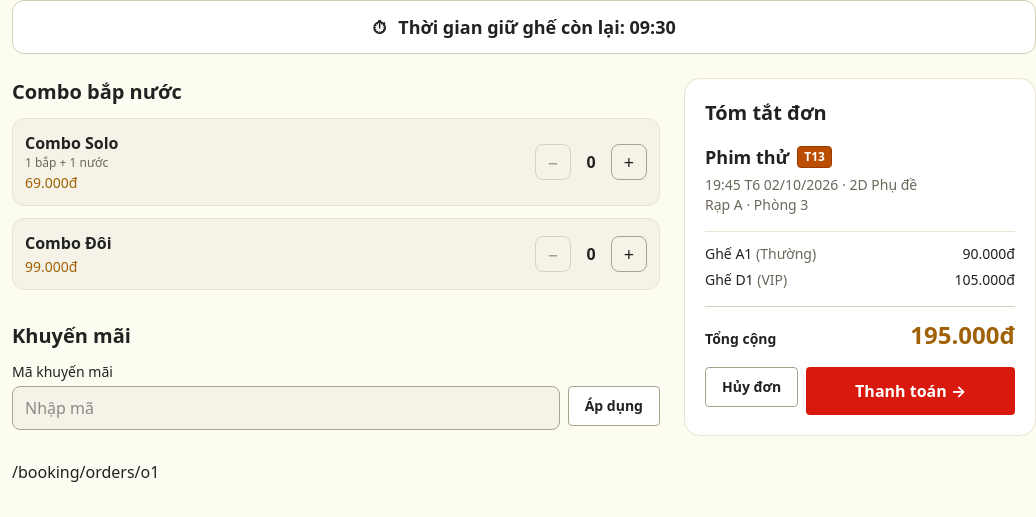
Test: CheckoutPage (P06) › mã bị từ chối với lý do EXPIRED: hiện thông báo tiếng Việt đúng lý do
expect the heading "Phim thử" is shown: met, box [705, 143, 789, 171]
Type "abc" into the field labelled "Mã khuyến mãi" at (286, 408), box [12, 386, 560, 430]
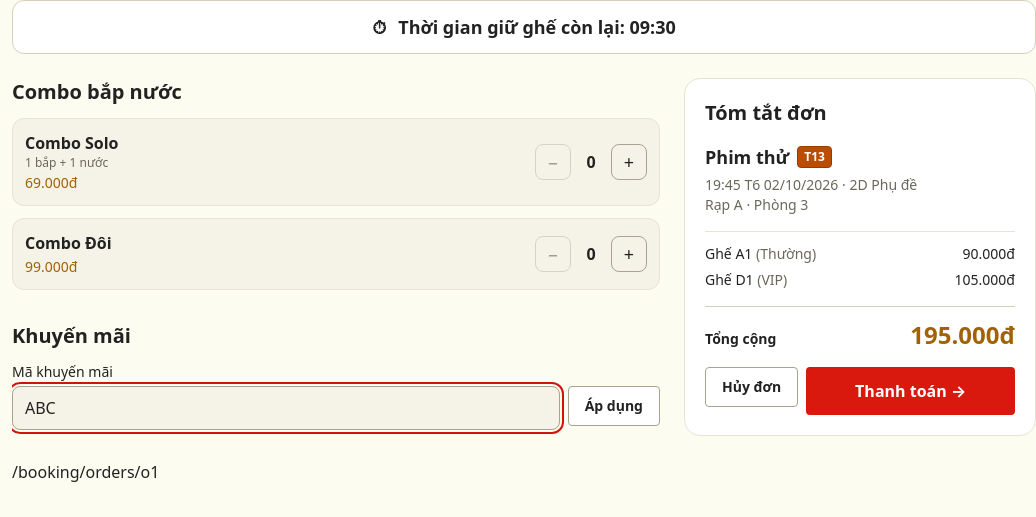
Click the button "Áp dụng" at (614, 406), box [568, 386, 660, 426]
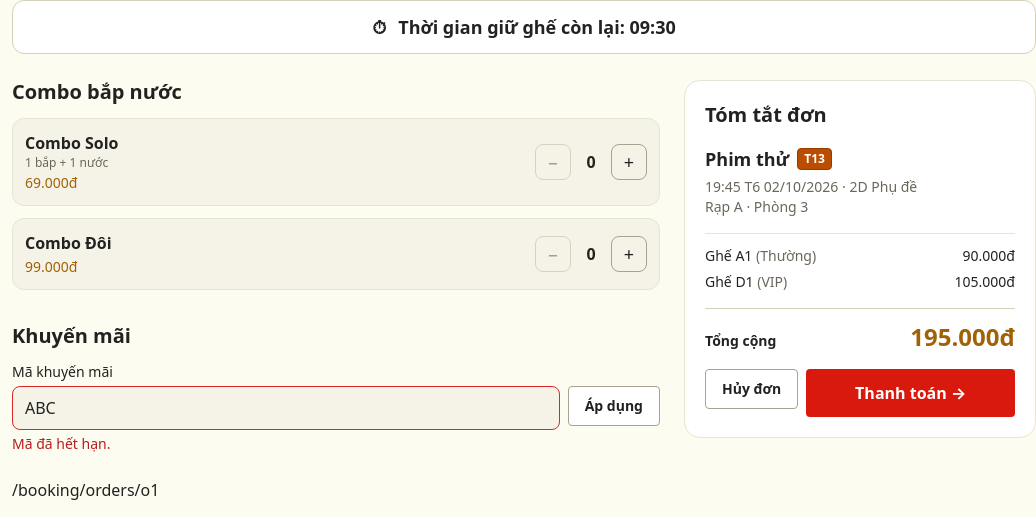
expect the text with test id "order-total" reads "195.000đ": met, box [910, 320, 1015, 353]
expect the text "Mã đã hết hạn." is shown: met, box [12, 434, 110, 453]
